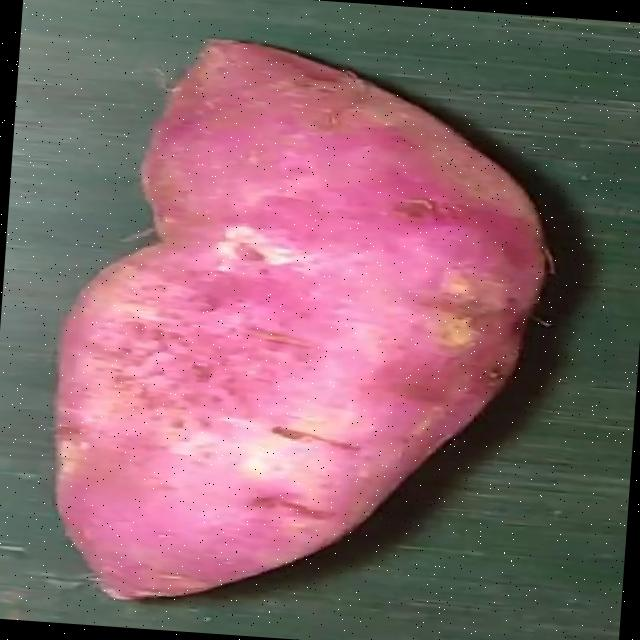Sweet Potato: (50, 37, 547, 601)
